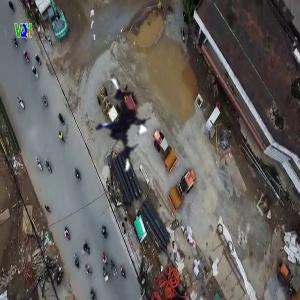drone: (58, 78, 163, 183)
